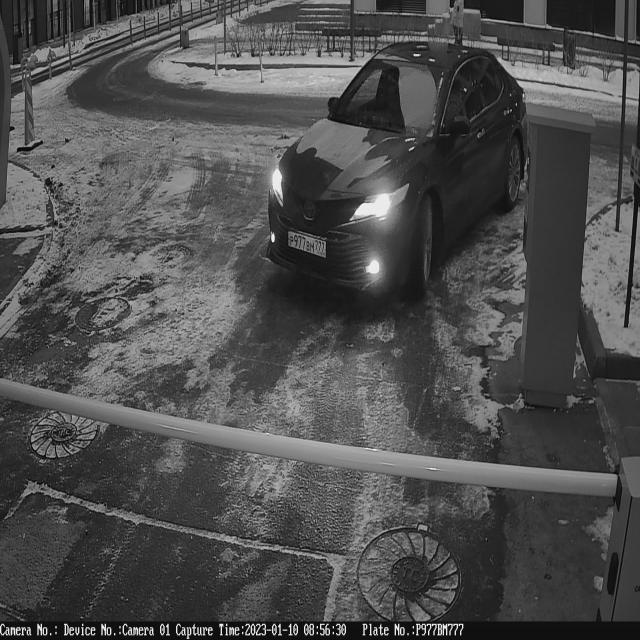car-plate-numbers: (286, 226, 331, 265)
